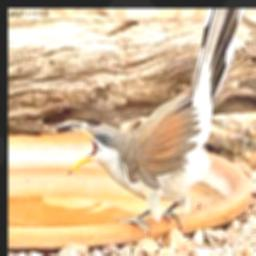Cuckoo: (68, 8, 245, 231)
